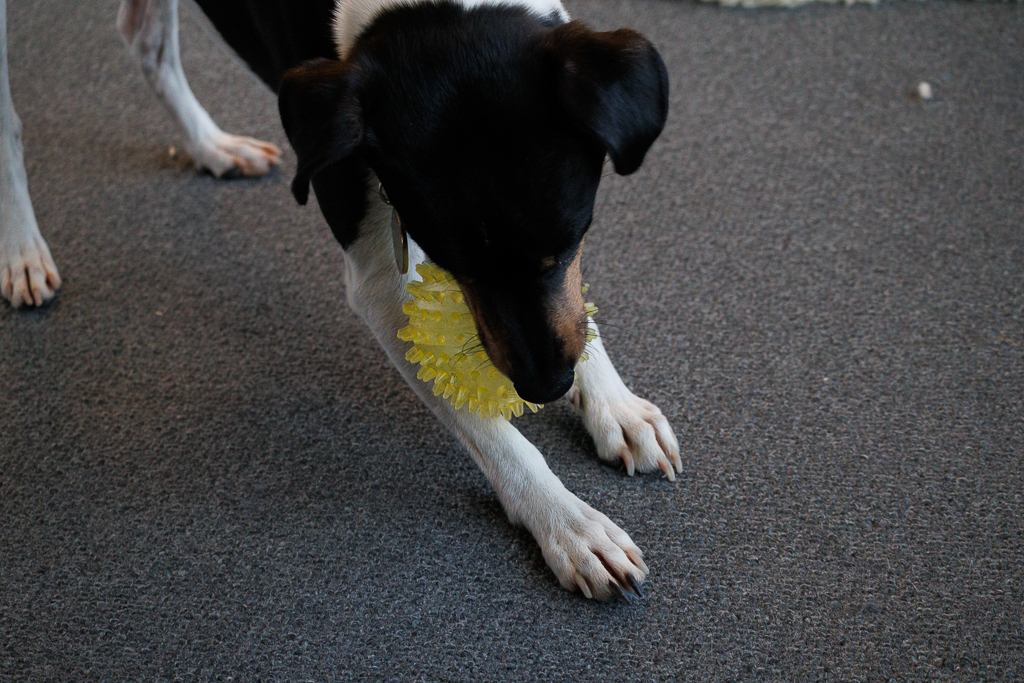Dog: (0, 0, 696, 620)
